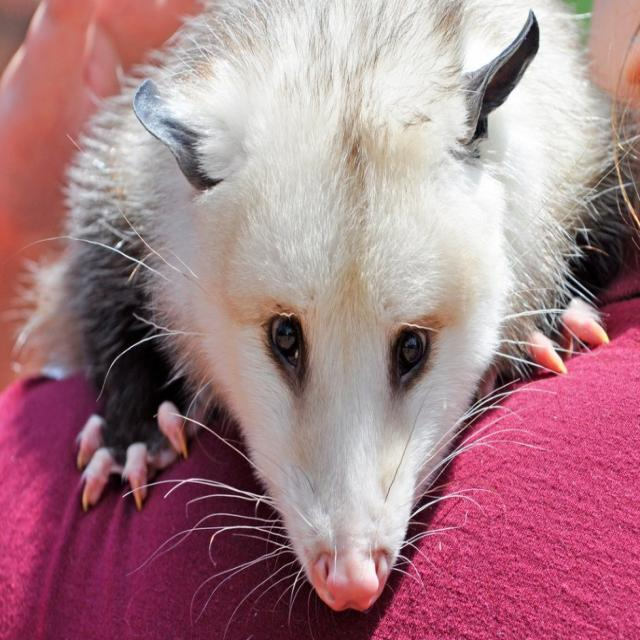Possum: (57, 0, 625, 610)
